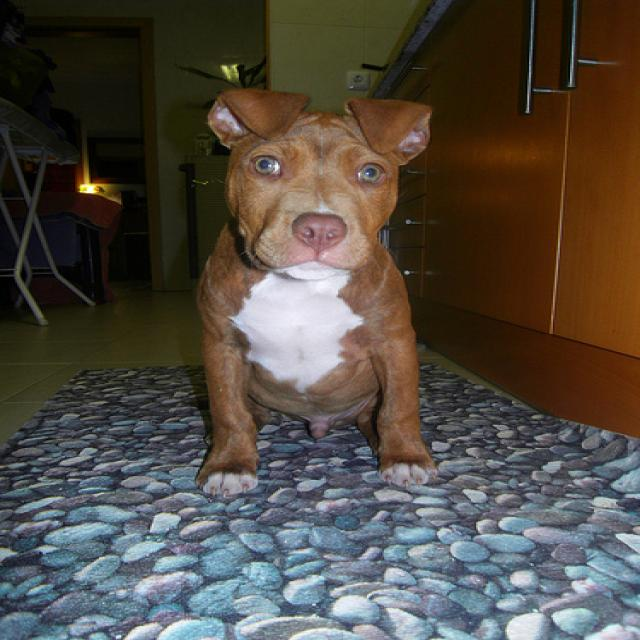dog-american_pit_bull_terrier: (188, 76, 445, 497)
